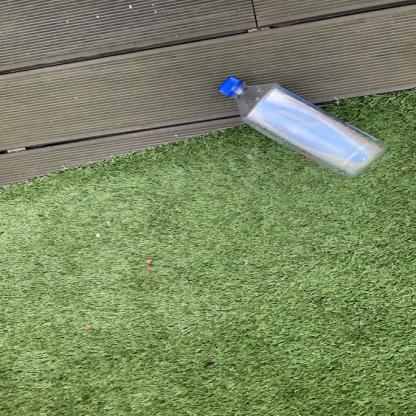trash: (221, 76, 384, 180)
